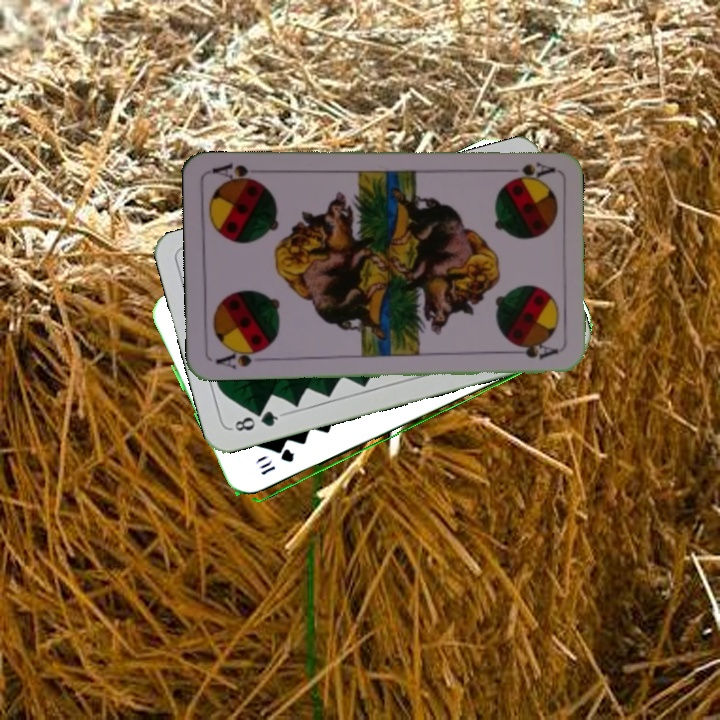G10: (257, 448, 298, 478)
G8: (227, 406, 286, 434)
SA: (212, 344, 270, 372), (497, 158, 556, 180)
